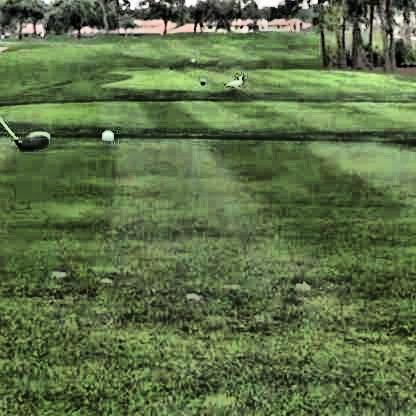golfball: (98, 127, 112, 142)
